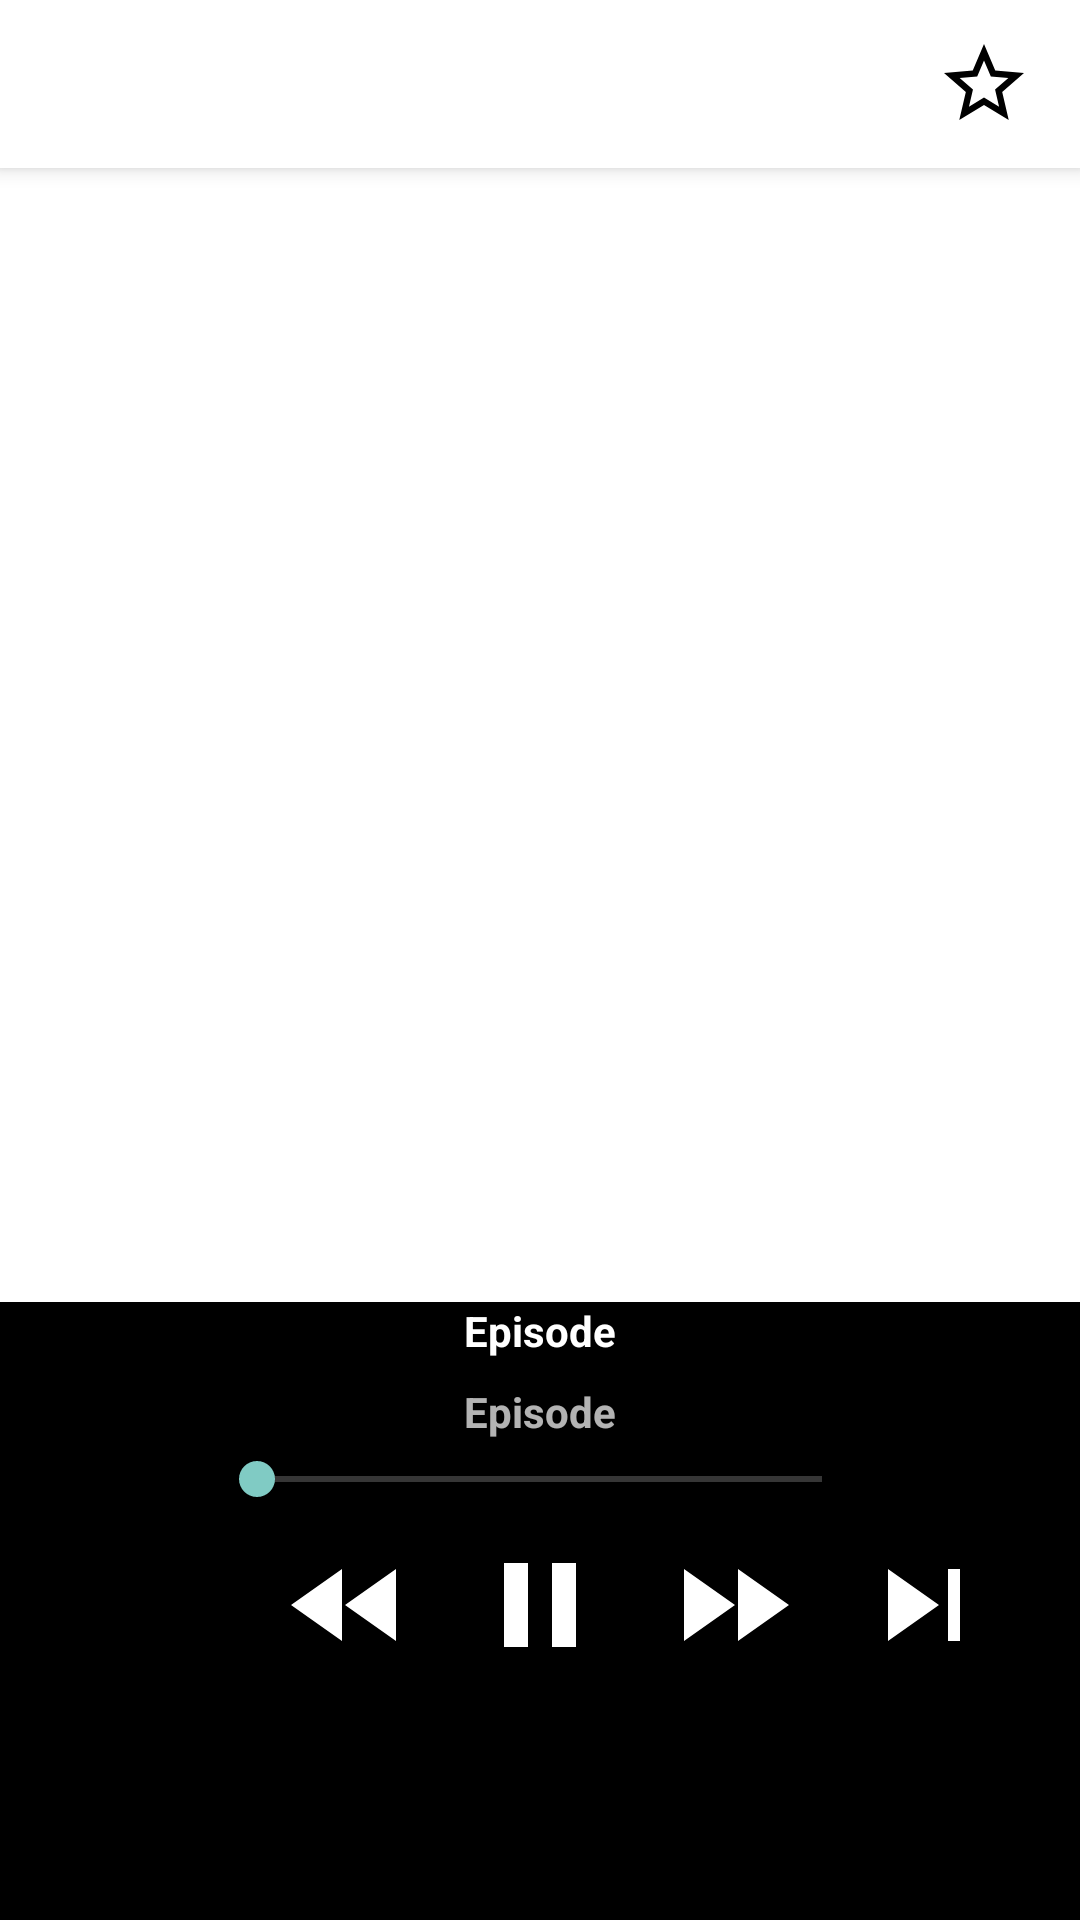

Named icons in this screenshot (1080 × 1920) and their centers, (x,y):
fast forward: (736,1605)
fast rewind: (343,1605)
pause: (540,1605)
skip next: (924,1605)
star border: (984,82)
